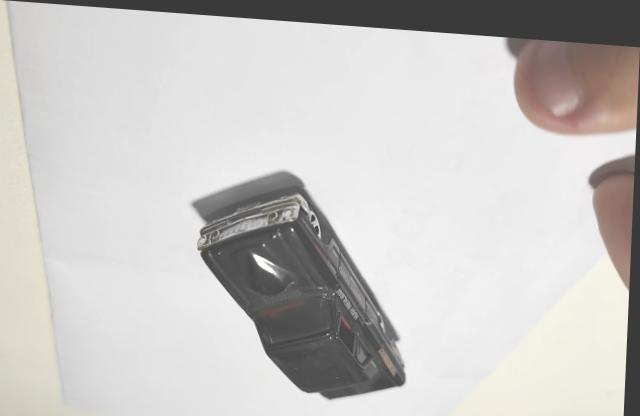01_FORD: (199, 183, 411, 395)
